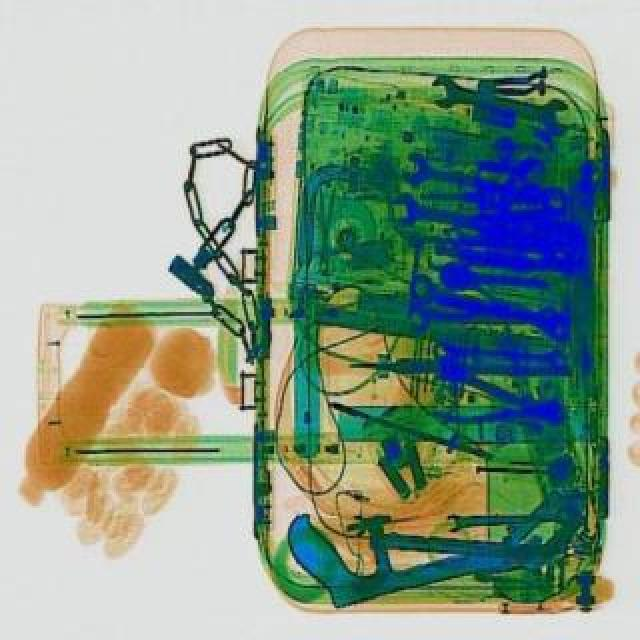scissors: (404, 270, 572, 342), (426, 70, 574, 136), (432, 336, 566, 374), (406, 298, 556, 330), (400, 150, 492, 198), (386, 188, 474, 236), (444, 504, 574, 532)
wrench: (422, 362, 570, 442)
